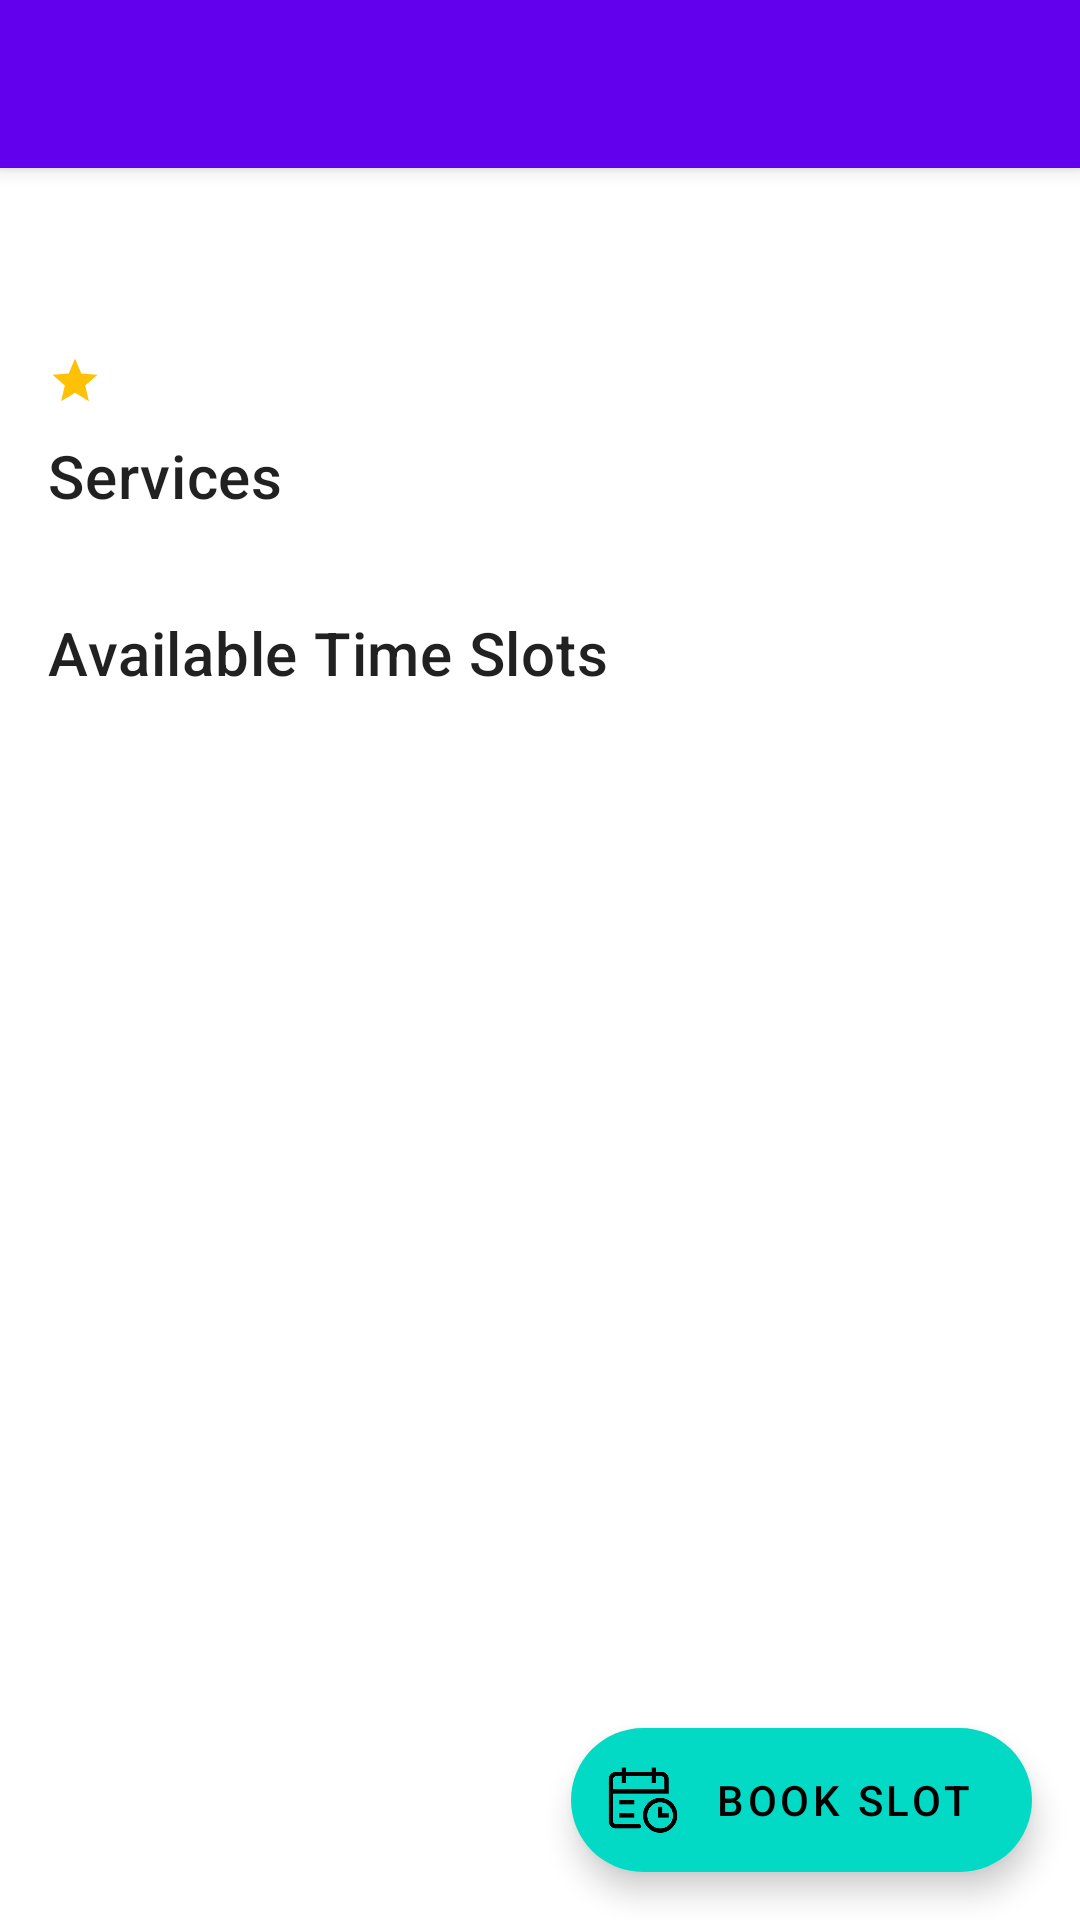

Icon bounding boxes for this 1080*1920 phone screenshot, format (x1, y1, x2, y2):
Rating Star: (53, 359, 97, 401)
